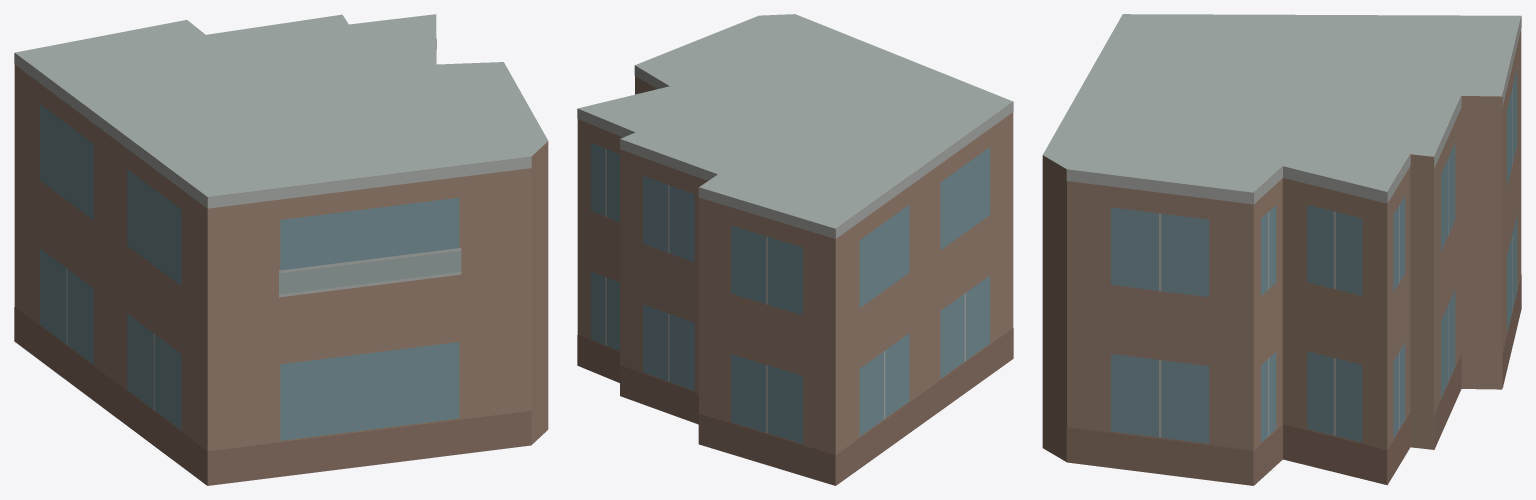
Rendered from survey-upis-32999102.glb.
3 views of the same model, side by side, from view 1: azimuth 30°, elevation 25°; view 2: azimuth 150°, elevation 25°; view 3: azimuth 270°, elevation 25° (orthographic). The views are drawn at different scales.
Parts seen in each view (by area): view 1: survey-upis-32999102.tmp; view 2: survey-upis-32999102.tmp; view 3: survey-upis-32999102.tmp.
Boxes of the visible parts, x1,y1,x2,y2 form: survey-upis-32999102.tmp: [14, 14, 548, 485]; survey-upis-32999102.tmp: [577, 14, 1013, 485]; survey-upis-32999102.tmp: [1042, 14, 1521, 485].
Size of the model in its own units: 7.99 by 6.1 by 9.04.
